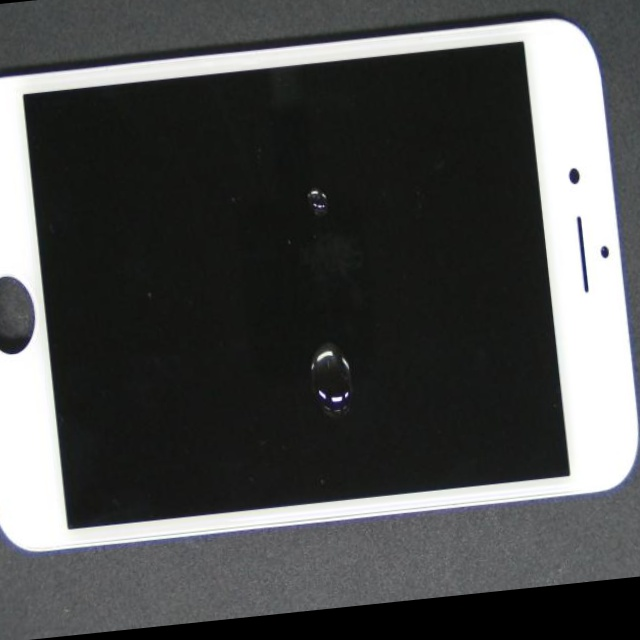oil: (133, 180, 587, 613), (90, 103, 516, 351)
